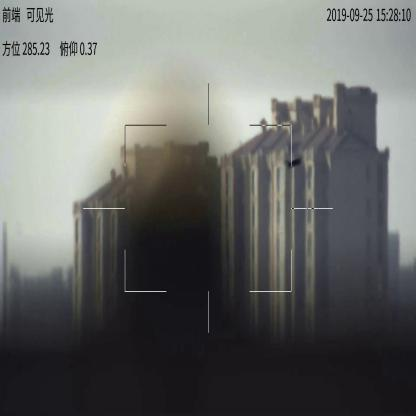uav: (288, 157, 302, 166)
